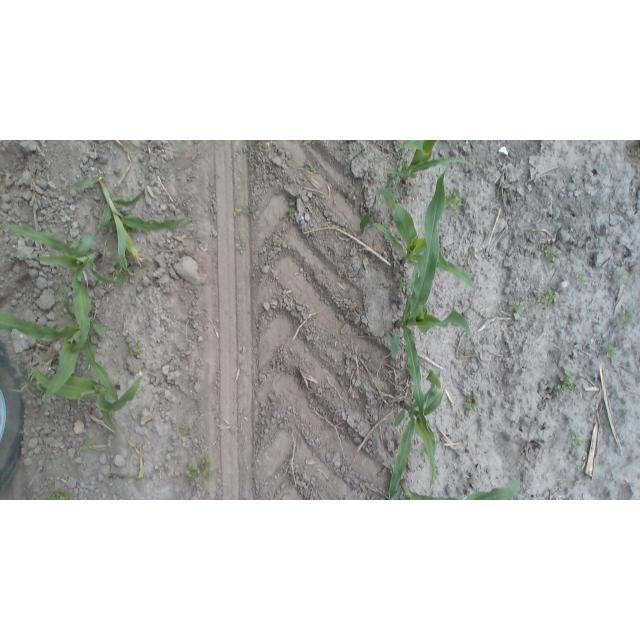Maize: (375, 166, 470, 414), (360, 154, 476, 293), (6, 213, 118, 351), (0, 287, 118, 408), (65, 173, 199, 278), (17, 363, 147, 431), (387, 365, 446, 497), (392, 471, 525, 497), (384, 141, 474, 176)
Weeds: (186, 456, 215, 486), (555, 369, 580, 396), (444, 188, 466, 214), (125, 339, 145, 360), (537, 288, 558, 308), (543, 245, 562, 264), (46, 488, 75, 500), (601, 343, 620, 361), (461, 395, 479, 413), (570, 432, 586, 449), (235, 236, 247, 256), (575, 271, 588, 289), (615, 267, 630, 282), (233, 206, 250, 219), (180, 424, 193, 441), (620, 308, 634, 323), (79, 440, 95, 453), (511, 301, 525, 315), (397, 277, 409, 293), (304, 162, 318, 175), (112, 268, 124, 282), (284, 206, 296, 220), (557, 479, 570, 490), (271, 238, 284, 249), (460, 435, 470, 445), (601, 458, 608, 470), (634, 146, 640, 159), (620, 324, 628, 330)
